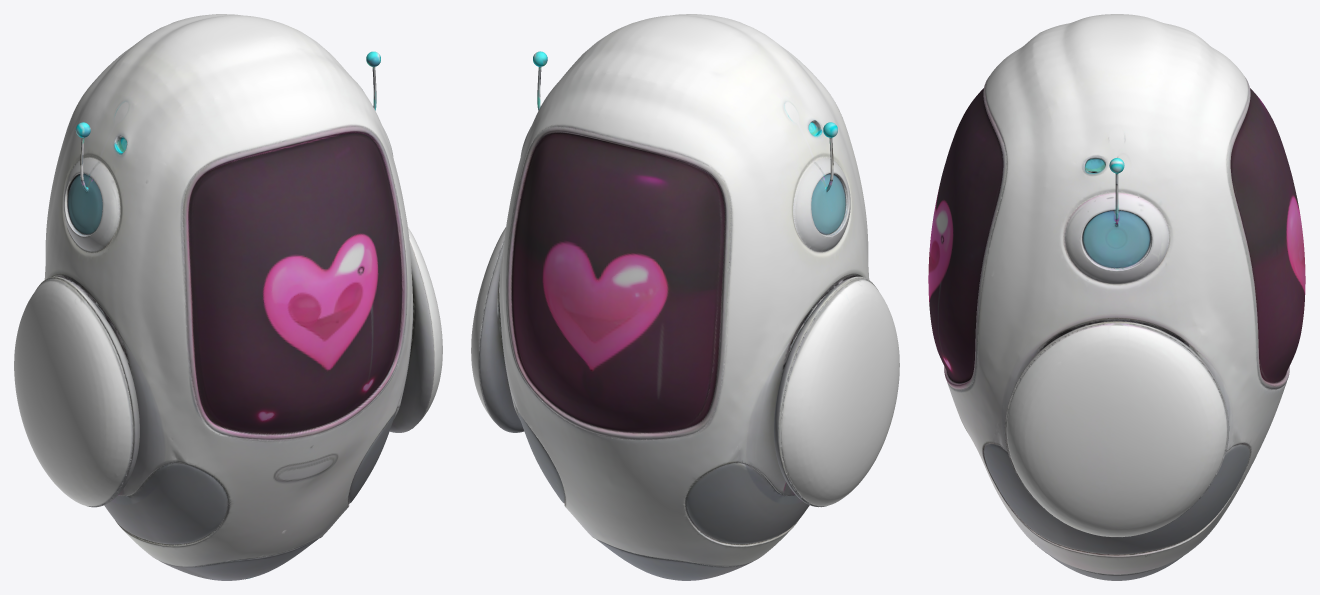
File: Meshy_AI_Love_Bot_0225101307_texture.fbx
3 views of the same model, side by side, from view 1: azimuth 30°, elevation 25°; view 2: azimuth 150°, elevation 25°; view 3: azimuth 270°, elevation 25° (orthographic).
Visible parts, largest first — view 1: Mesh_0; view 2: Mesh_0; view 3: Mesh_0.
Boxes of the visible parts, x1=… form: Mesh_0: x1=14, y1=14, x2=442, y2=580; Mesh_0: x1=471, y1=14, x2=899, y2=580; Mesh_0: x1=928, y1=14, x2=1305, y2=580.
Bounding box in the file's own units: 133 × 190 × 120.
Materials: 1 (1 with a texture image).
